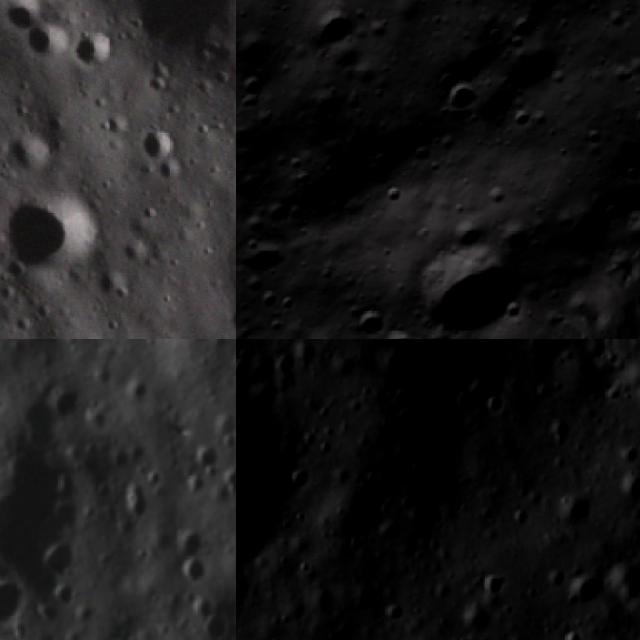crater: (393, 213, 550, 339), (0, 160, 117, 298), (0, 433, 90, 593), (93, 0, 236, 71), (490, 29, 568, 109), (292, 0, 368, 66), (57, 20, 122, 85), (236, 228, 294, 295), (380, 389, 440, 453), (78, 252, 138, 314), (13, 13, 74, 72), (0, 112, 55, 175), (436, 207, 493, 263), (432, 70, 488, 125), (128, 115, 183, 170), (447, 30, 501, 84), (36, 533, 88, 587), (108, 221, 160, 273), (131, 54, 182, 106), (552, 485, 598, 532), (342, 297, 393, 339), (470, 339, 544, 367), (254, 192, 297, 234), (173, 557, 219, 595), (372, 341, 417, 379), (174, 516, 208, 566), (566, 571, 608, 611), (115, 487, 152, 529), (236, 165, 269, 210), (0, 576, 27, 631), (198, 601, 235, 640), (378, 180, 412, 214), (617, 463, 640, 510), (374, 320, 423, 339), (215, 296, 236, 339), (379, 600, 407, 632), (429, 339, 471, 359), (477, 574, 509, 600), (236, 129, 247, 174)
